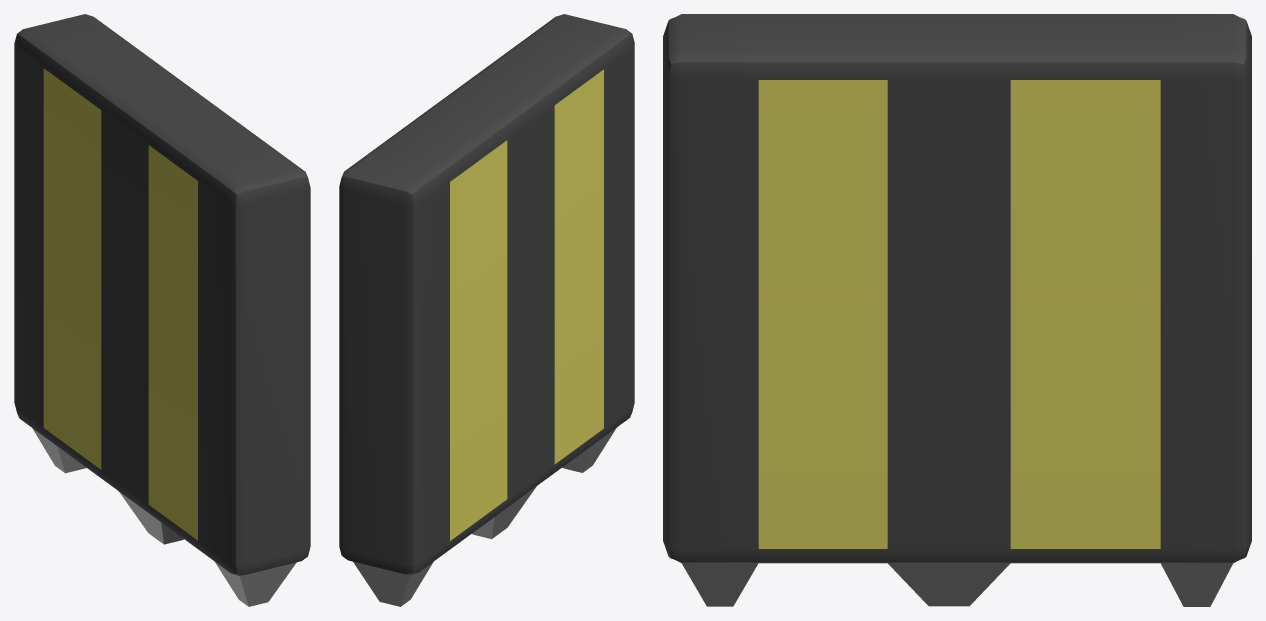
The model's file is game.fbx.
3 views of the same model, side by side, from view 1: azimuth 30°, elevation 25°; view 2: azimuth 150°, elevation 25°; view 3: azimuth 270°, elevation 25° (orthographic). The views are drawn at different scales.
Parts seen in each view (by area): view 1: game; view 2: game; view 3: game.
Boxes of the visible parts, box(x1,y1,x2,y2) form: game: box(14, 14, 310, 606); game: box(339, 14, 634, 606); game: box(663, 14, 1251, 606).
Size of the model in its own units: 0.2853 by 1.46 by 1.37.
